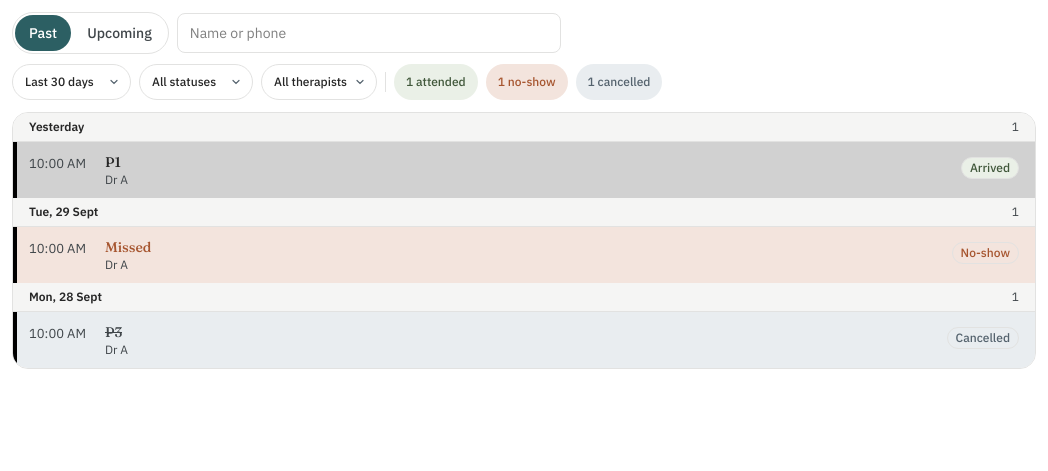
Test: HistoryView › shows the last 30 days by default, with outcome counters that filter
Check: the text "Old" is not shown
Check: the button "1 attended" is shown, box [394,64,478,100]
Click the button "1 no-show".
click(527, 82)  # box [486,64,568,100]
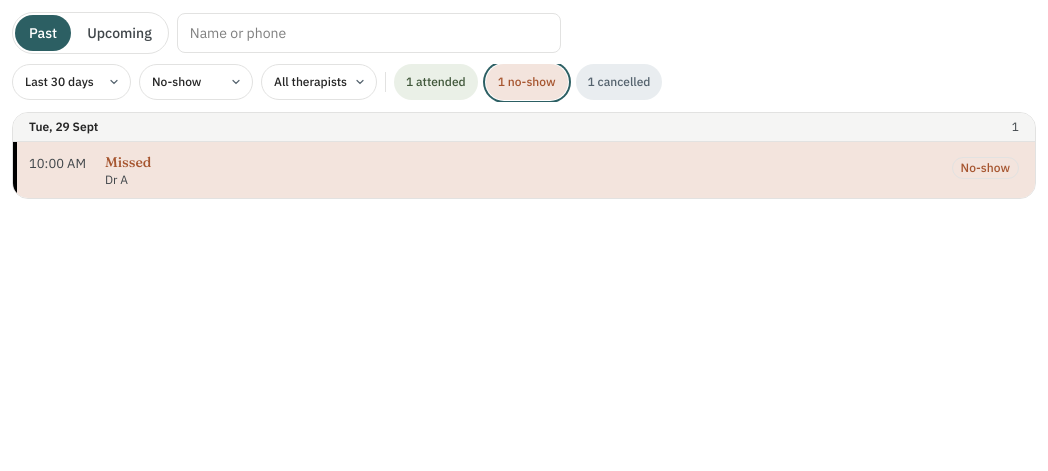
Check: the text "Missed" is shown, box [105,152,152,172]
Check: the number of list items is 1, box [13,142,1035,198]
# Wider range brings older visits in.
Click the button "1 no-show".
click(527, 82)  # box [486,64,568,100]
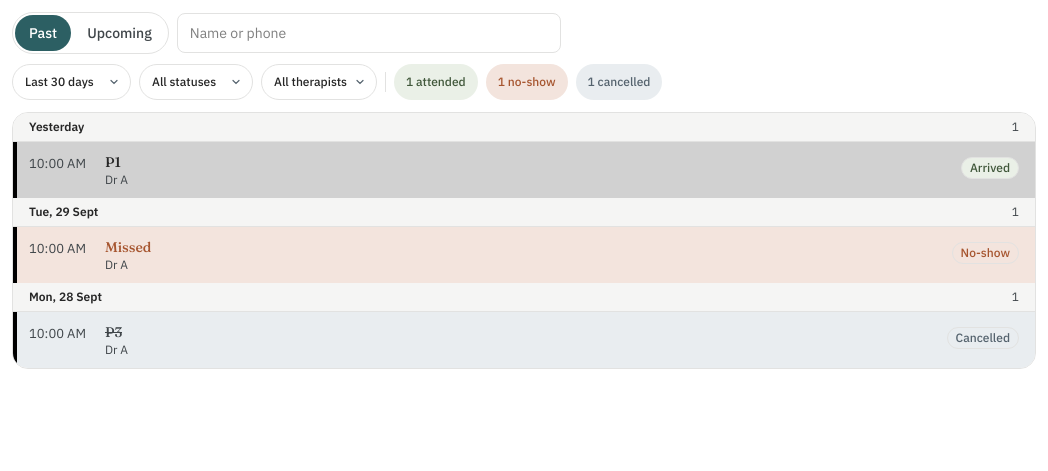
Select "Last 90 days" in the dropdown named "Date range" at (72, 82), box [12,64,131,100]
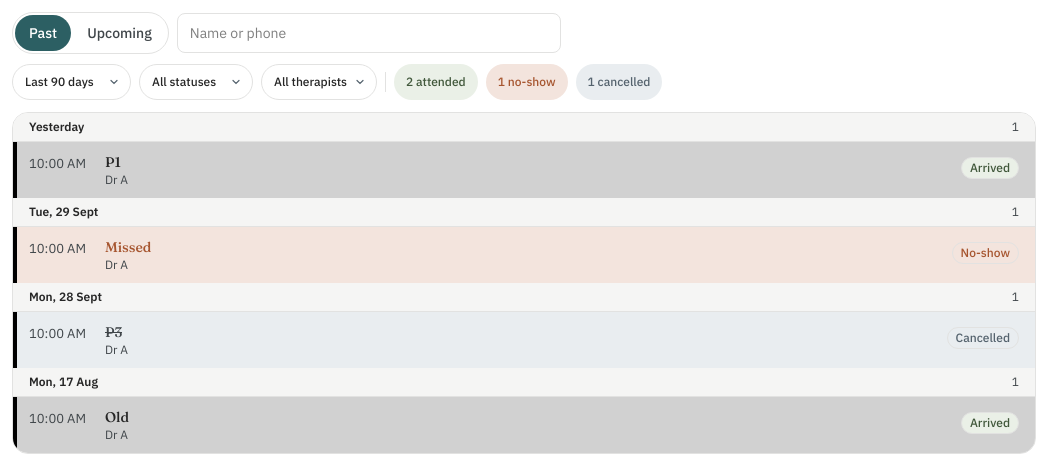
Check: the text "Old" is shown, box [105,407,129,427]
